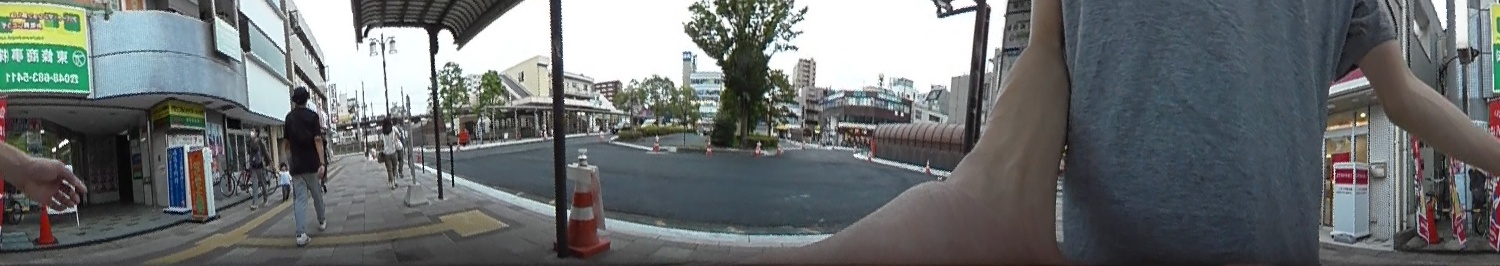difficult_person: (276, 160, 291, 201), (395, 115, 403, 176)
person: (285, 85, 331, 245), (244, 124, 271, 210), (378, 115, 399, 187)
